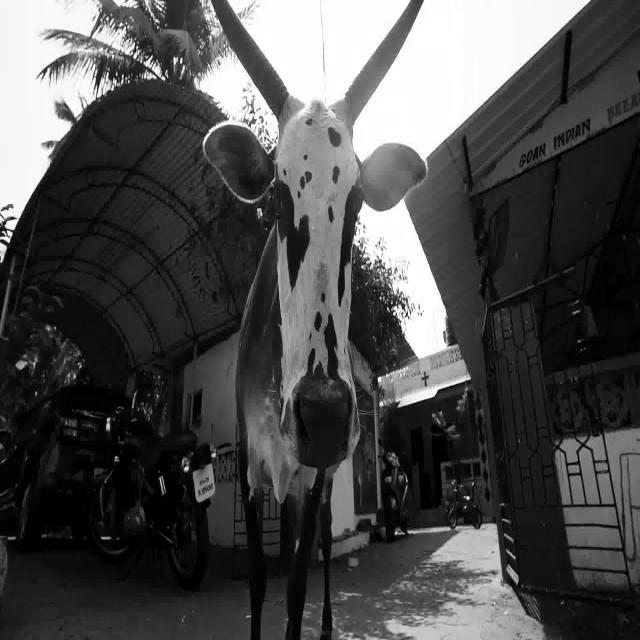COW: (204, 0, 425, 640)
